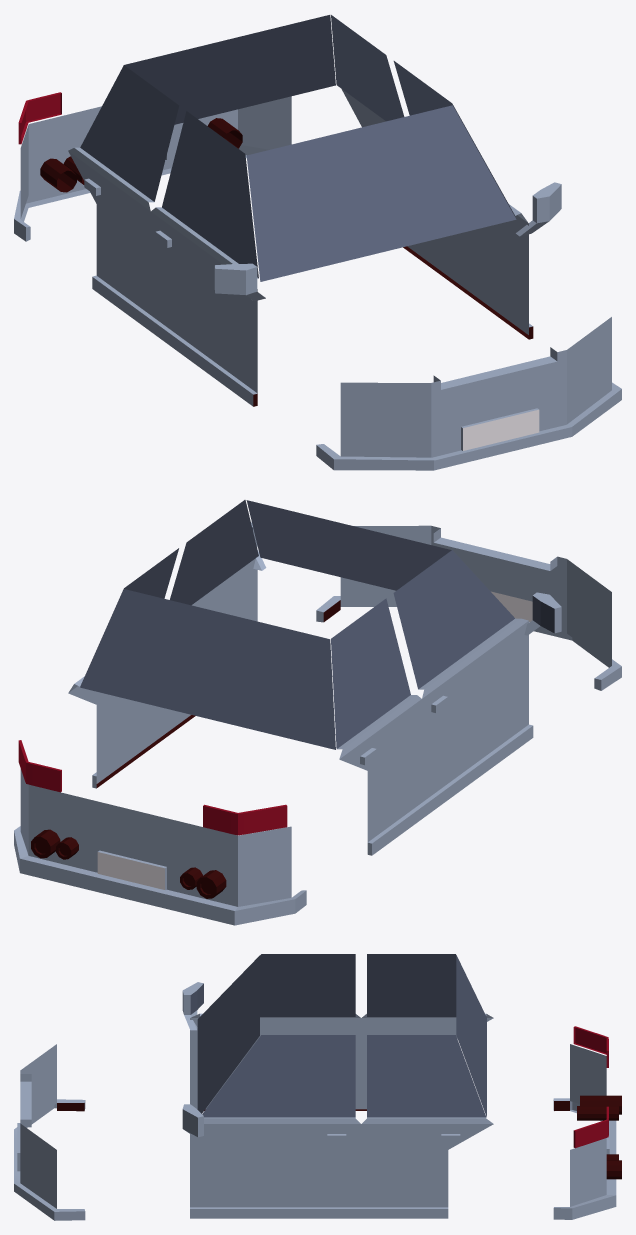
Rendered from car3Bumper2.fbx.
3 renders of one model, top to bottom at view 1: azimuth 30°, elevation 25°; view 2: azimuth 150°, elevation 25°; view 3: azimuth 270°, elevation 25°, orthographic. The views are drawn at different scales.
Parts seen in each view (by area): view 1: bumper2; view 2: bumper2; view 3: bumper2.
Part boxes in pixels (x1=…): bumper2: x1=14, y1=15, x2=621, y2=470; bumper2: x1=14, y1=500, x2=621, y2=925; bumper2: x1=14, y1=954, x2=621, y2=1220.
Bounding box in the file's own units: 2.81 × 1.65 × 5.33.
